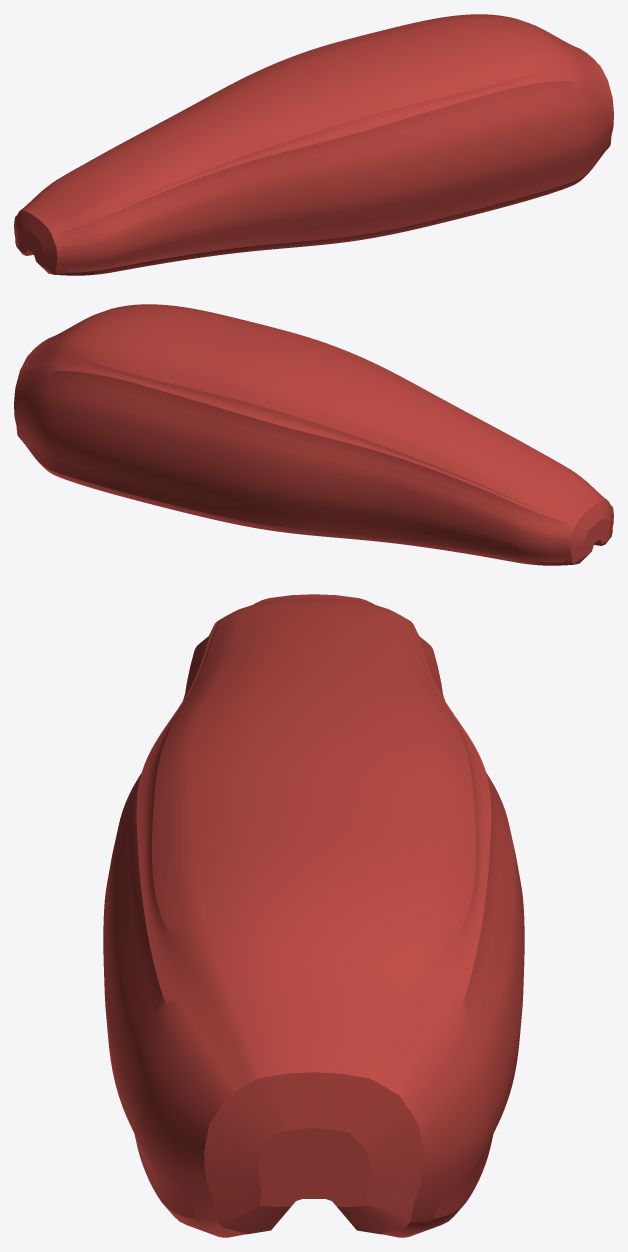
File: cruiser_4_lod1.glb
3 views of the same model, one above another, from view 1: azimuth 30°, elevation 25°; view 2: azimuth 150°, elevation 25°; view 3: azimuth 270°, elevation 25° (orthographic). The views are drawn at different scales.
Visible parts, largest first — view 1: cruiser_4_lod1; view 2: cruiser_4_lod1; view 3: cruiser_4_lod1.
Part boxes in pixels (left/top/right/bottom): cruiser_4_lod1: left=14, top=14, right=613, bottom=275; cruiser_4_lod1: left=14, top=304, right=613, bottom=565; cruiser_4_lod1: left=103, top=594, right=524, bottom=1237.
Bounding box in the file's own units: 1.06 × 0.2773 × 0.3465.
